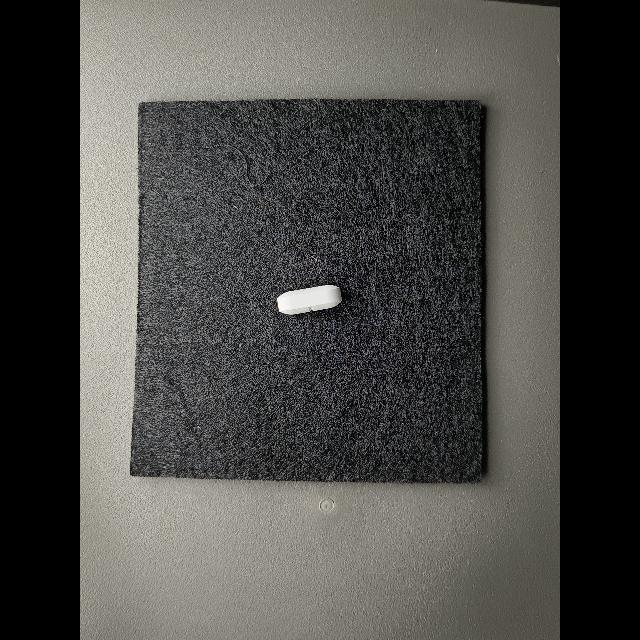Intact Pill: (277, 285, 342, 315)
